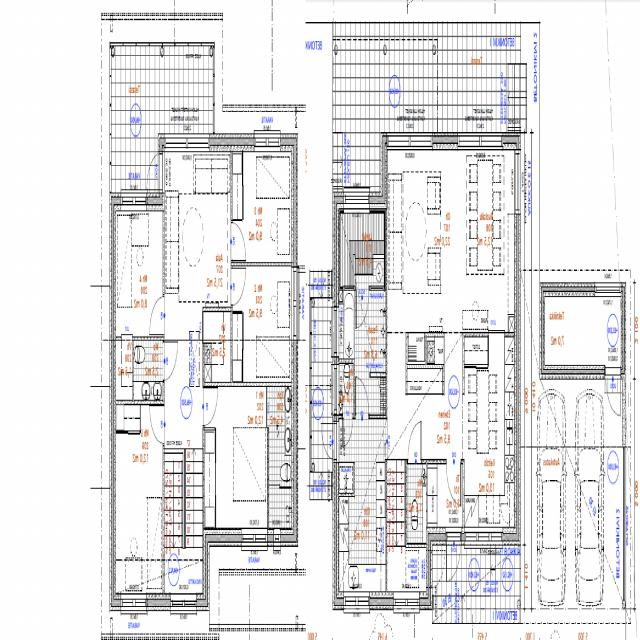door: (446, 527, 461, 586), (606, 365, 620, 420), (145, 153, 164, 190), (446, 459, 461, 504), (320, 424, 339, 459), (203, 388, 218, 426), (231, 222, 246, 260), (163, 342, 178, 380), (408, 422, 421, 464), (356, 286, 369, 328), (150, 296, 164, 334), (150, 406, 164, 444), (231, 268, 245, 305), (356, 378, 368, 418), (343, 415, 353, 446)
